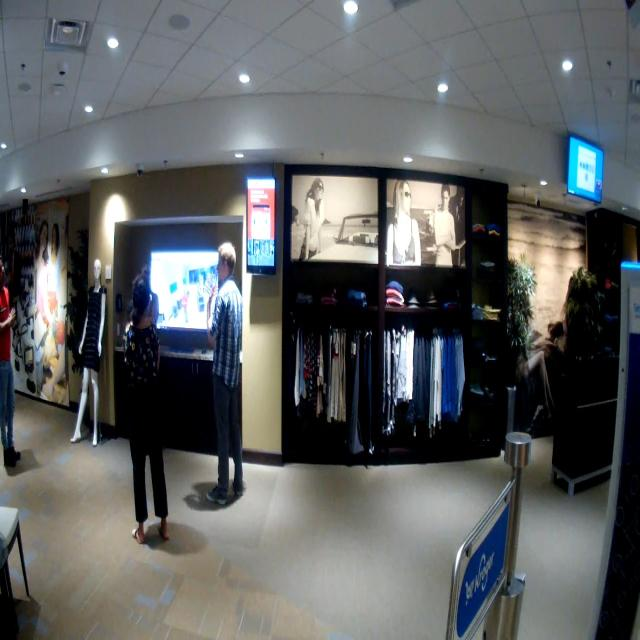normal: (123, 255, 176, 556), (203, 236, 249, 518), (0, 246, 38, 494)
